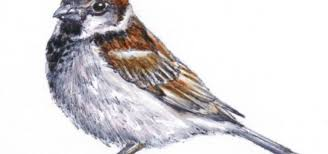hsparrow: (44, 1, 296, 154)
